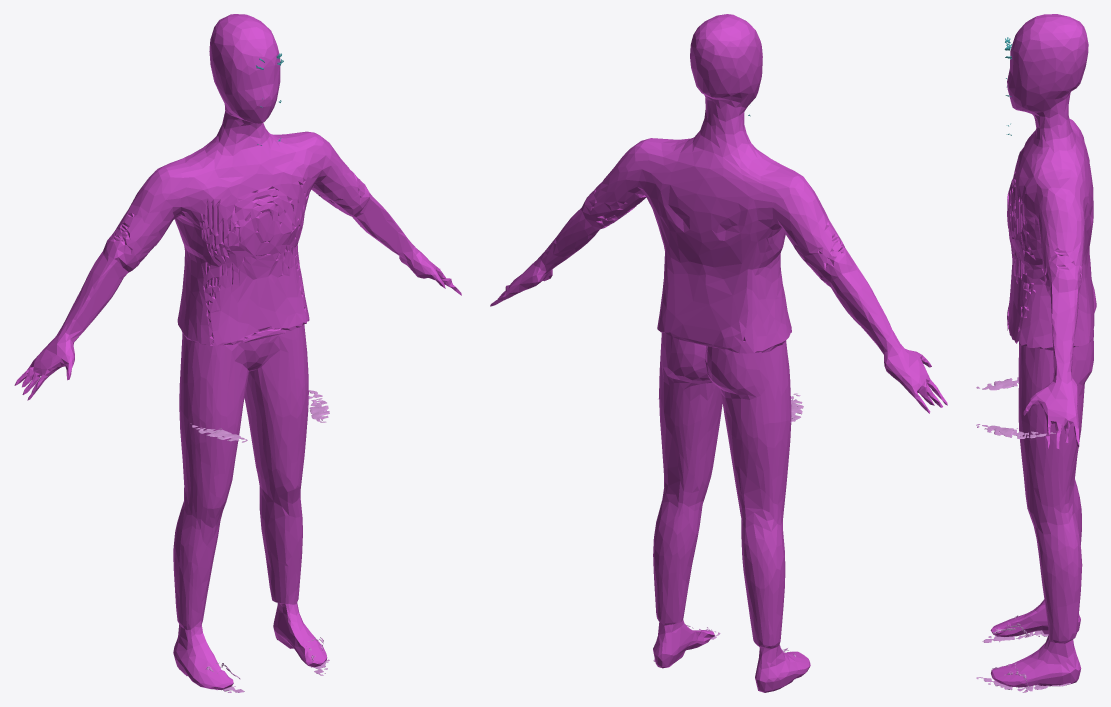
3 renders of one model, left to right at view 1: azimuth 30°, elevation 25°; view 2: azimuth 150°, elevation 25°; view 3: azimuth 270°, elevation 25°, orthographic. The views are drawn at different scales.
Parts seen in each view (by area): view 1: world; view 2: world; view 3: world.
Part boxes in pixels (left/top/right/bottom): world: left=14, top=14, right=461, bottom=692; world: left=490, top=14, right=947, bottom=692; world: left=976, top=14, right=1096, bottom=692.
Size of the model in its own units: 1.39 by 1.96 by 0.3338.
